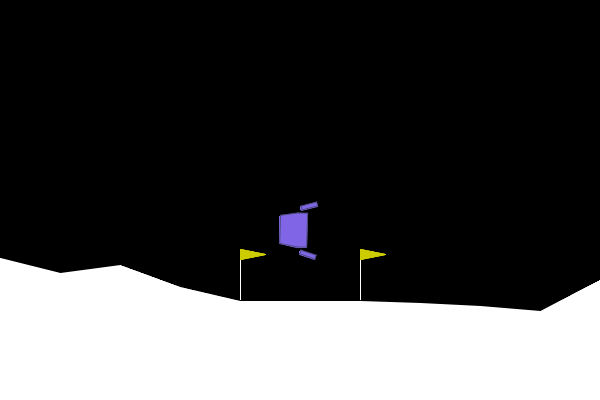lander: (277, 200, 318, 261)
